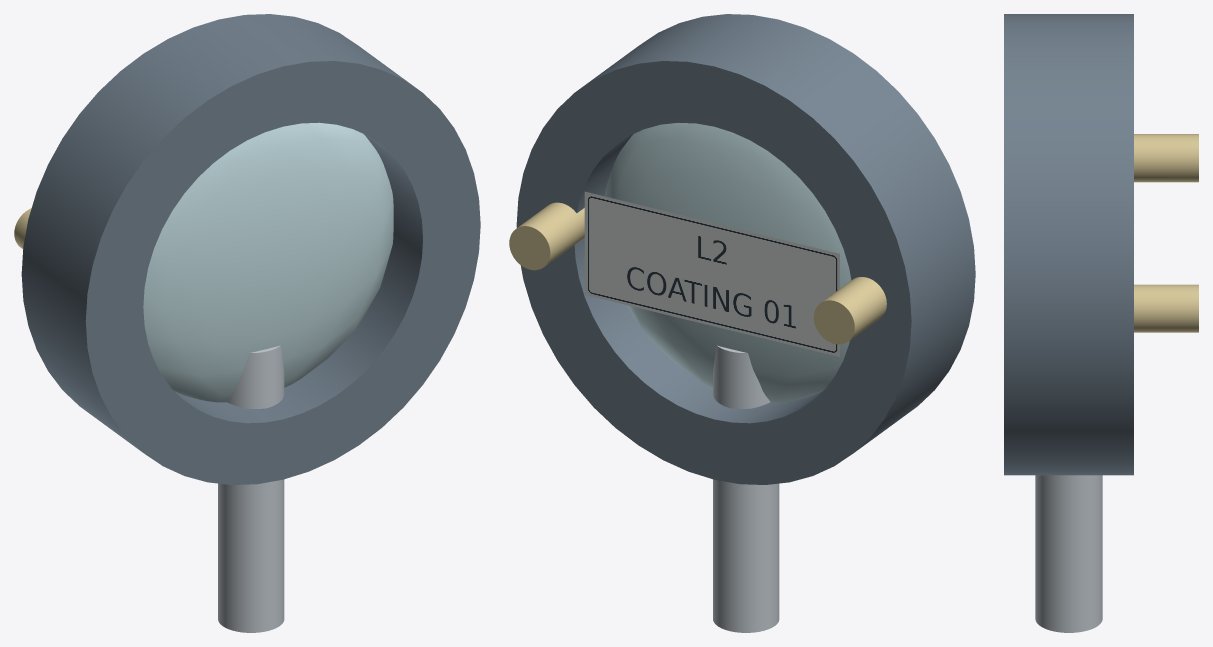
3 renders of one model, left to right at view 1: azimuth 30°, elevation 25°; view 2: azimuth 150°, elevation 25°; view 3: azimuth 270°, elevation 25°, orthographic.
Parts seen in each view (by area): view 1: L2/0000_optic_retainer, L2/0001_convex_lens, L2/0002_mounting_post; view 2: L2/0000_optic_retainer, L2/0001_convex_lens, L2/label_5, L2/0002_mounting_post, L2/0004_adjuster, L2/0003_adjuster; view 3: L2/0000_optic_retainer, L2/0002_mounting_post, L2/0003_adjuster, L2/0004_adjuster.
Boxes of the visible parts, left/top/right/bottom form: L2/0000_optic_retainer: left=21, top=14, right=480, bottom=484; L2/0001_convex_lens: left=143, top=122, right=393, bottom=402; L2/0002_mounting_post: left=218, top=345, right=284, bottom=632; L2/0000_optic_retainer: left=516, top=14, right=975, bottom=484; L2/0001_convex_lens: left=604, top=122, right=851, bottom=402; L2/label_5: left=584, top=191, right=839, bottom=356; L2/0002_mounting_post: left=713, top=345, right=779, bottom=632; L2/0004_adjuster: left=509, top=202, right=584, bottom=270; L2/0003_adjuster: left=813, top=277, right=886, bottom=344; L2/0000_optic_retainer: left=1004, top=14, right=1133, bottom=475; L2/0002_mounting_post: left=1035, top=475, right=1102, bottom=632; L2/0003_adjuster: left=1134, top=134, right=1198, bottom=182; L2/0004_adjuster: left=1134, top=284, right=1198, bottom=332.
Size of the model in its own units: 0.096 by 0.1338 by 0.0405.
Materials: 5 (1 with a texture image).
